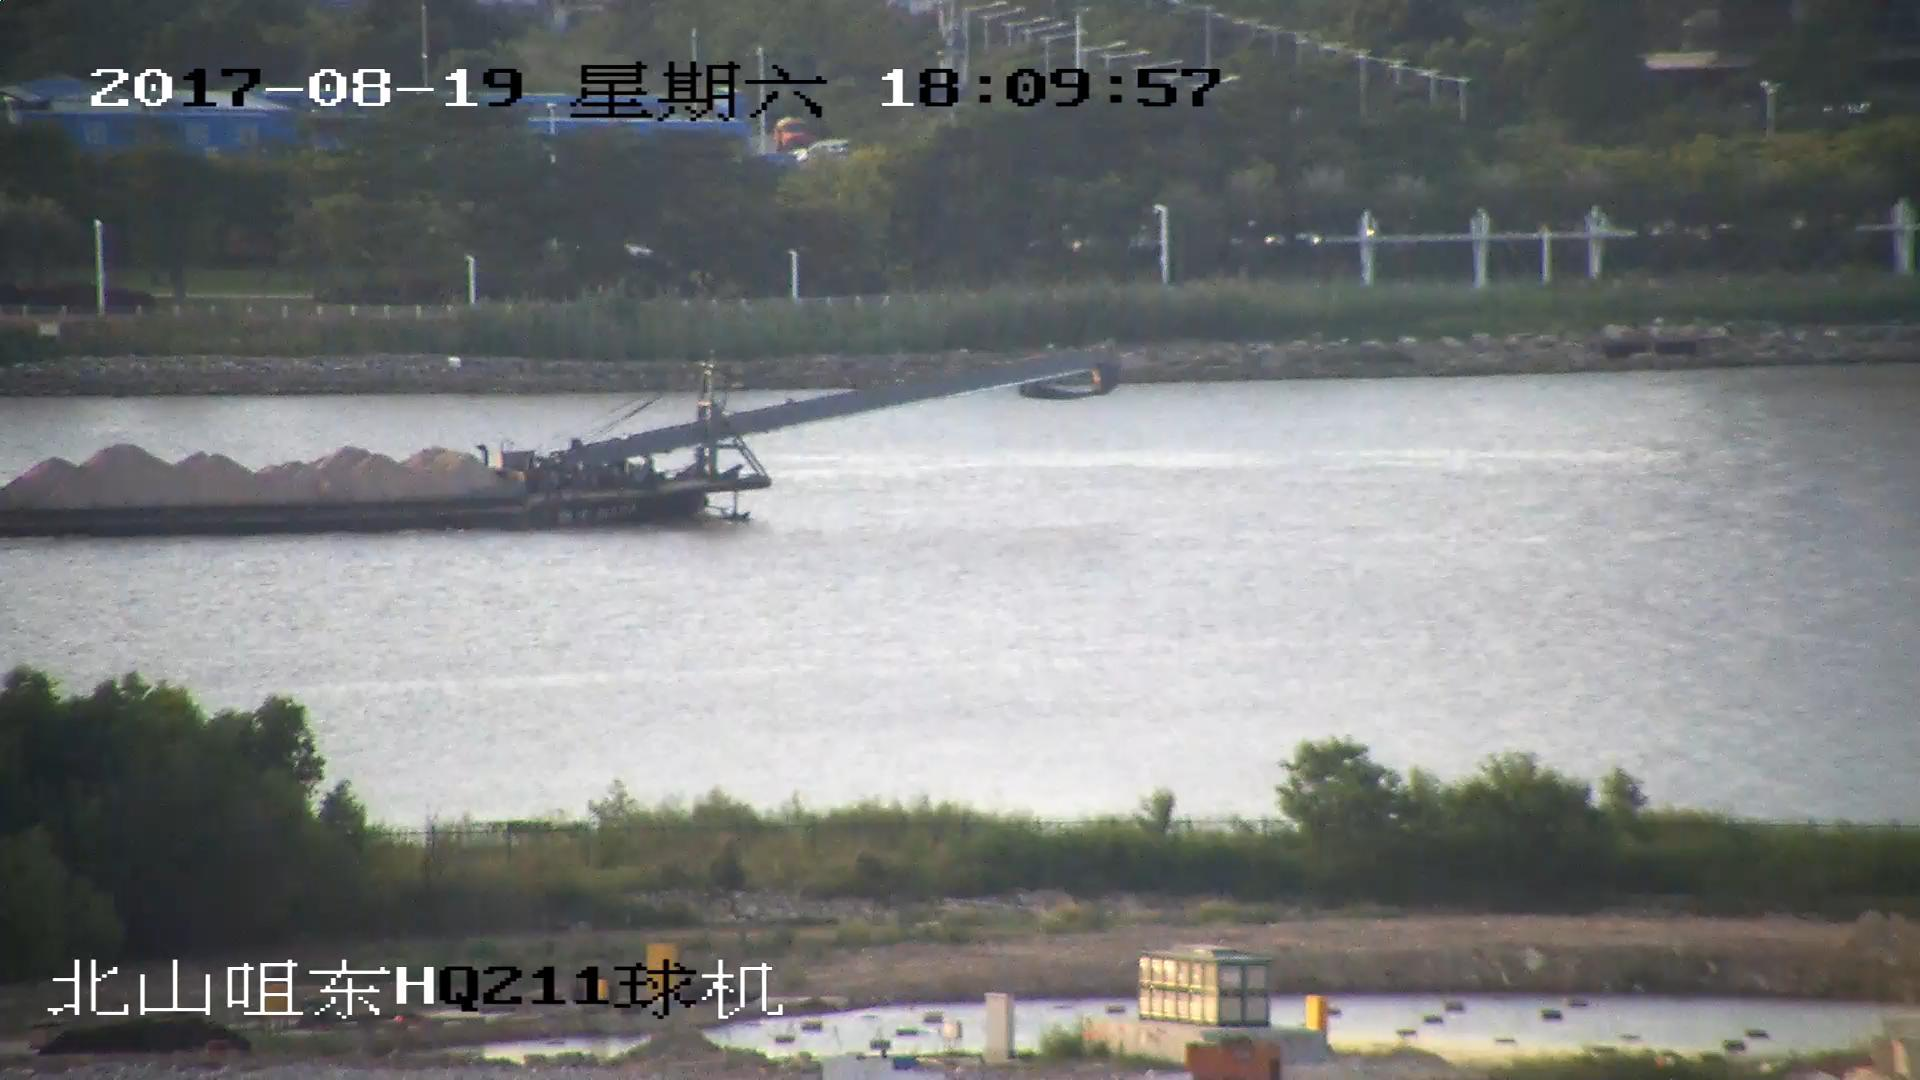Ship: (3, 342, 1113, 545)
